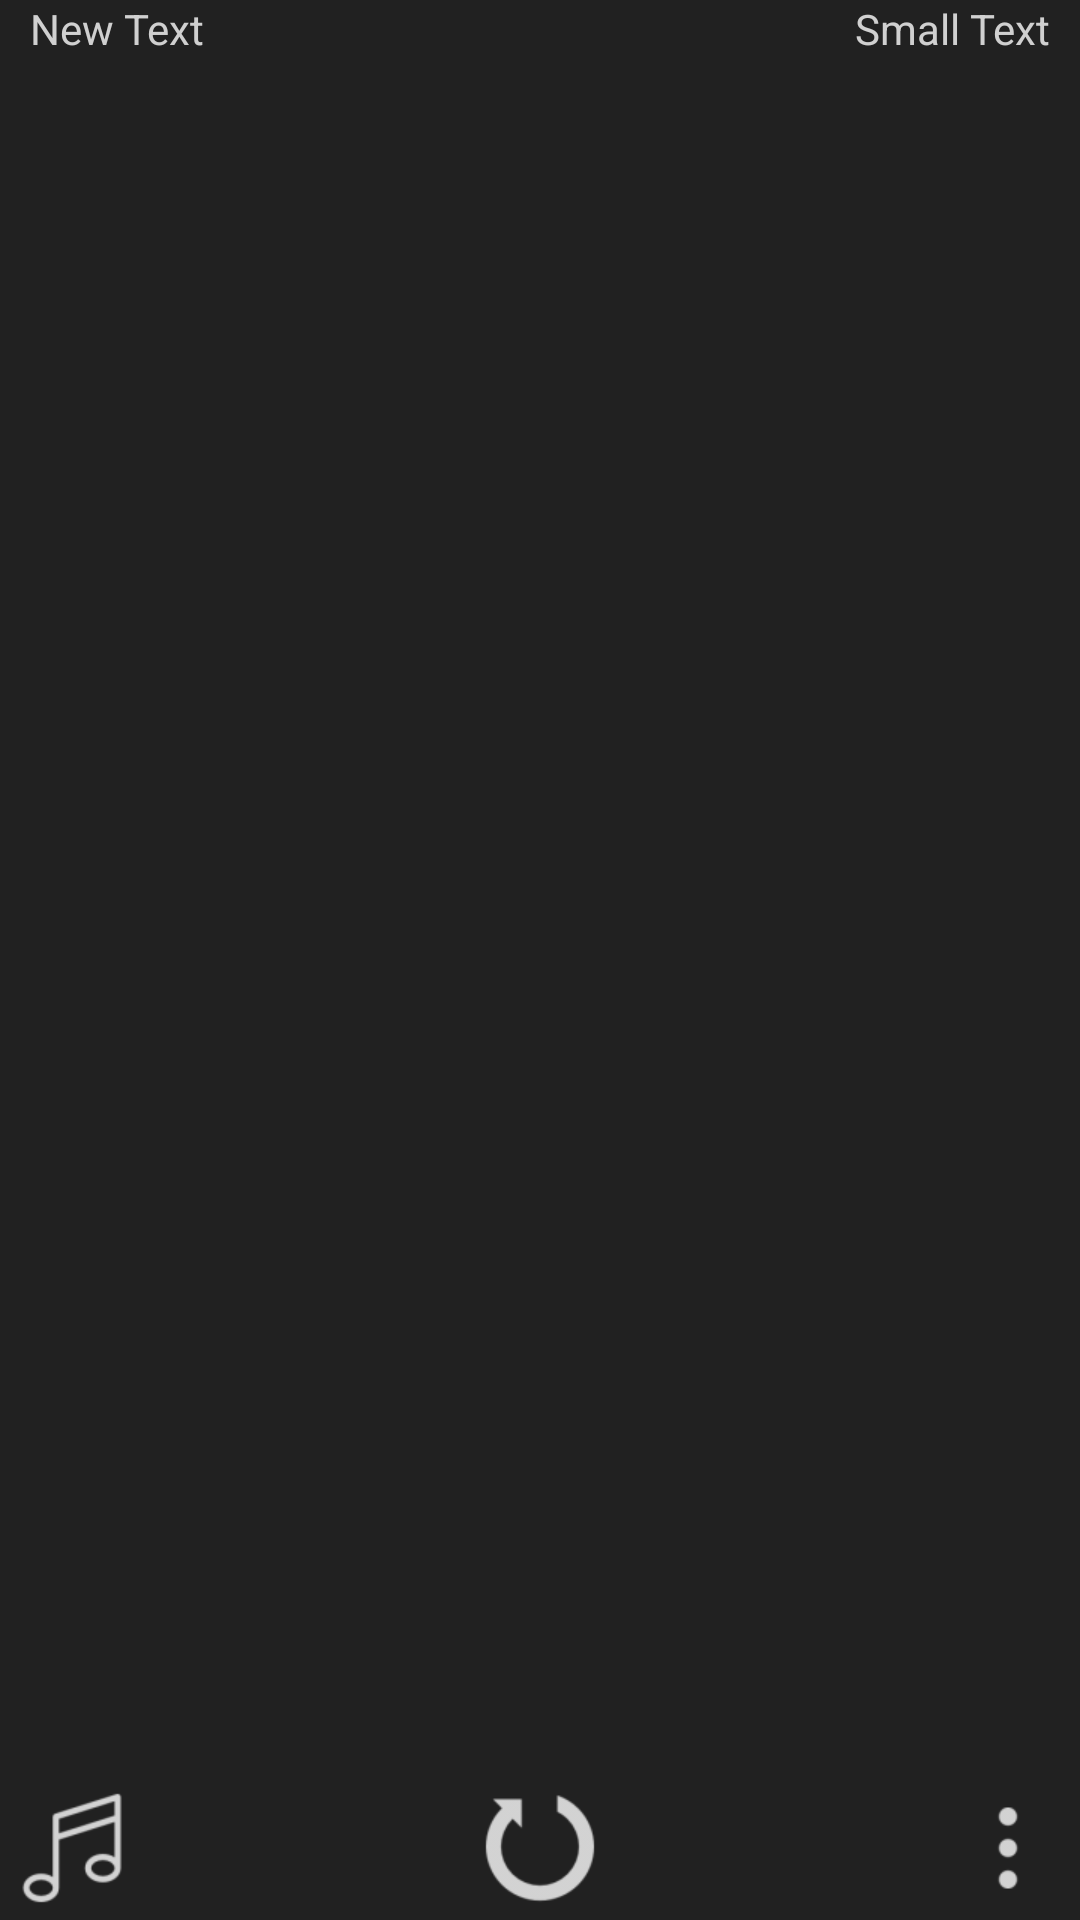

Named icons in this screenshot (1080 x 1920) and their centers, point (x, y):
menu: point (1008, 1848)
music: point (72, 1848)
reset: point (540, 1848)
